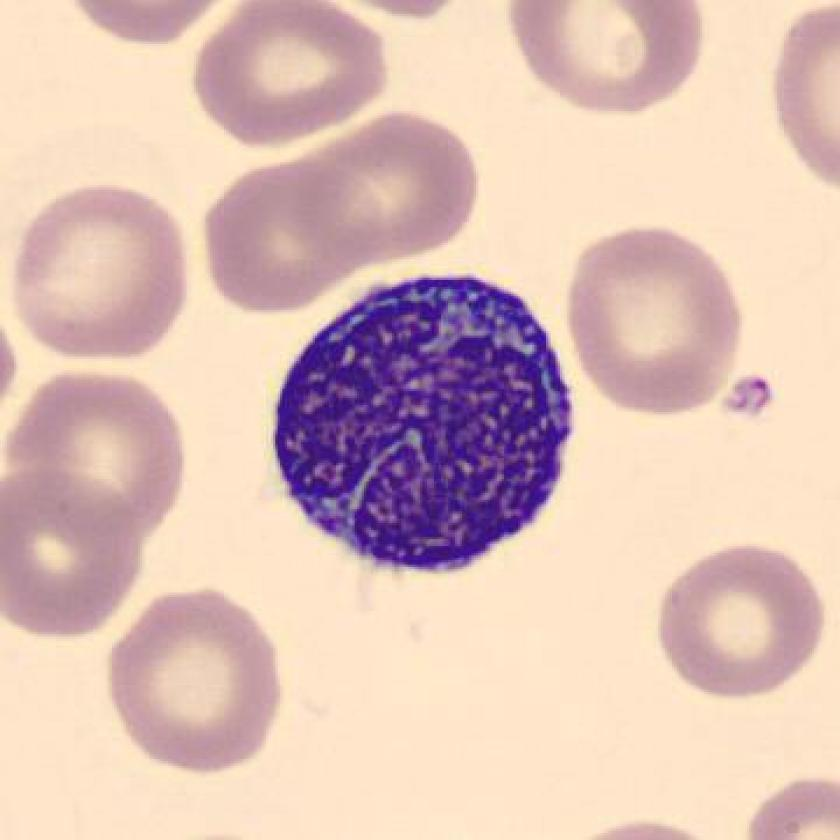monocyte: (260, 265, 589, 591)
